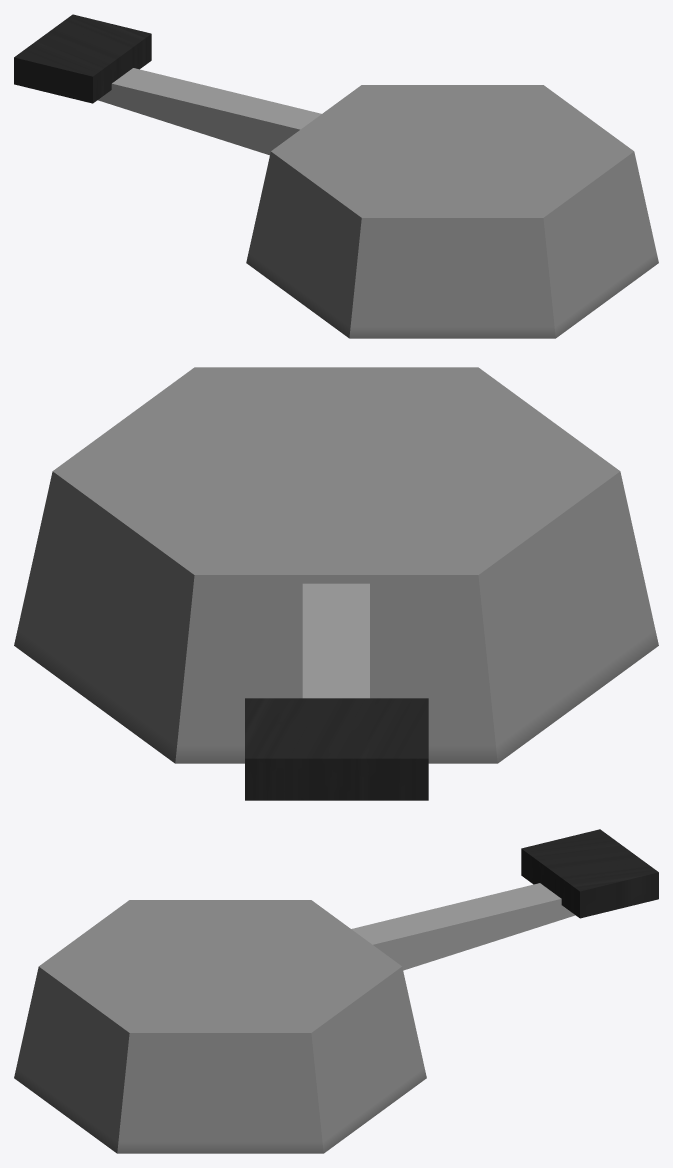
Rendered from SW_VEH_Train_ControlLever.fbx.
The picture shows the model from 3 angles, top to bottom: view 1: azimuth 30°, elevation 25°; view 2: azimuth 150°, elevation 25°; view 3: azimuth 270°, elevation 25°; orthographic projection. The views are drawn at different scales.
Parts seen in each view (by area): view 1: SW_VEH_Train_ControlLever; view 2: SW_VEH_Train_ControlLever; view 3: SW_VEH_Train_ControlLever.
Part boxes in pixels (box(x1,y1,x2,y2)): SW_VEH_Train_ControlLever: box(14, 14, 658, 338); SW_VEH_Train_ControlLever: box(14, 367, 658, 800); SW_VEH_Train_ControlLever: box(14, 829, 658, 1153).
Size of the model in its own units: 0.1129 by 0.0341 by 0.1562.
